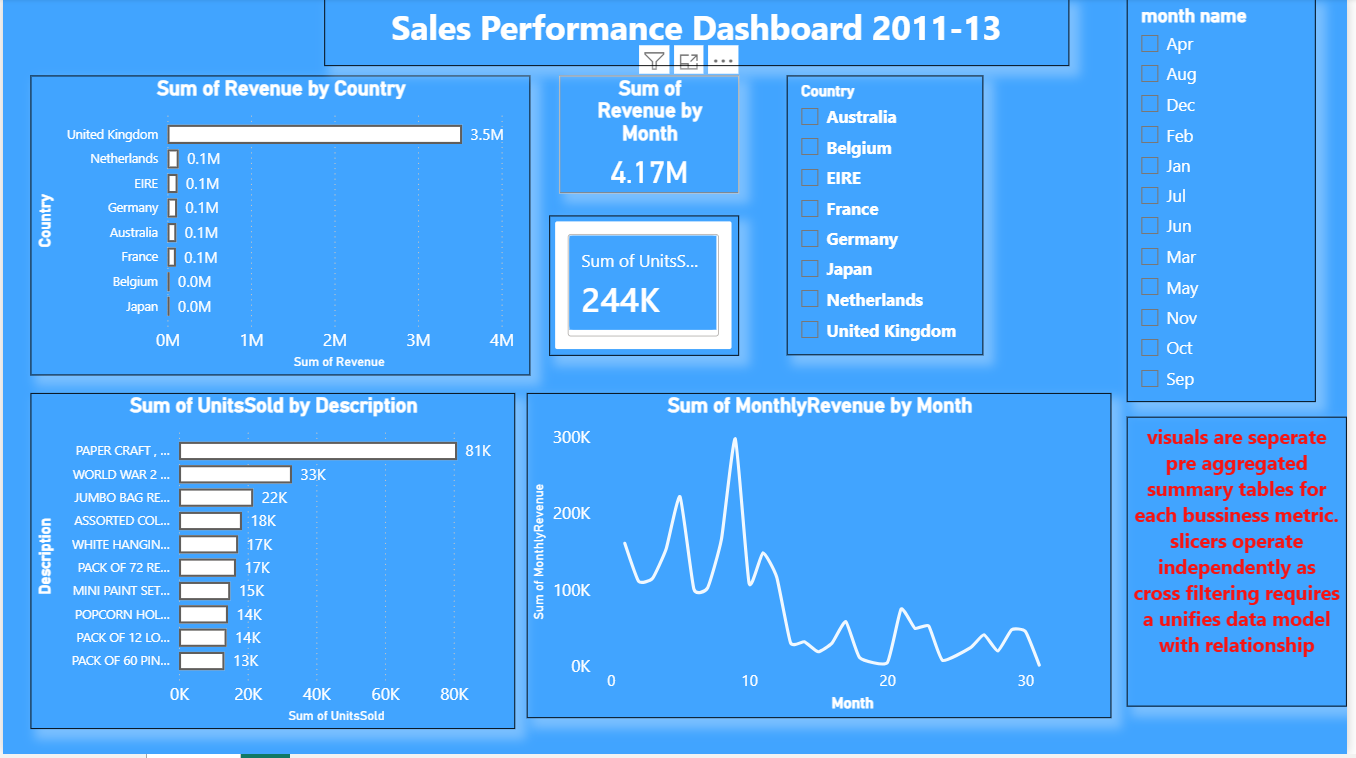

This screenshot's page, from the dashboard's own definition file:
{"tool":"powerbi","page":{"name":"Page 1","canvas":[1280,720],"ordinal":0},"visuals":[{"type":"clusteredBarChart","fields":{"Category":["3_country_revenue.Country"],"Y":["Sum(3_country_revenue.Revenue)"]},"box":[26.2,73.8,472.6,285.7],"z":0},{"type":"clusteredBarChart","fields":{"Y":["Sum(2_best_products.UnitsSold)"],"Category":["2_best_products.Description"]},"box":[26.2,376.2,461.9,320.2],"z":1000},{"type":"kpi","fields":{"Indicator":["Sum(3_country_revenue.Revenue)"],"TrendLine":["4_monthly_trends.Month"]},"box":[529.8,73.8,171.4,119],"z":2000},{"type":"lineChart","fields":{"Category":["4_monthly_trends.Month"],"Y":["Sum(4_monthly_trends.MonthlyRevenue)"]},"box":[498.8,376.2,557.1,309.5],"z":3000},{"type":"textbox","box":[306,0,709.4,64.5],"z":4000},{"type":"slicer","fields":{"Values":["3_country_revenue.Country"]},"box":[746.4,73.8,186.9,266.7],"z":5000},{"type":"cardVisual","fields":{"Data":["Sum(2_best_products.UnitsSold)"]},"box":[529.8,207.1,171.4,133.3],"z":6000},{"type":"slicer","fields":{"Values":["4_monthly_trends.month name"]},"box":[1070.2,0,179.8,384.5],"z":7000},{"type":"textbox","box":[1070.2,398.8,209.5,276.2],"z":8000}]}

Visuals, with their boxes in screenshot pixels (x1, y1, x2, y2), scaled from the page's 1280x720 canvas onto the 1356x758 screenshot:
clusteredBarChart - 3_country_revenue.Country x Sum(3_country_revenue.Revenue): x1=28 y1=78 x2=528 y2=378
clusteredBarChart - Sum(2_best_products.UnitsSold) x 2_best_products.Description: x1=28 y1=396 x2=517 y2=733
kpi - Sum(3_country_revenue.Revenue) x 4_monthly_trends.Month: x1=561 y1=78 x2=743 y2=203
lineChart - 4_monthly_trends.Month x Sum(4_monthly_trends.MonthlyRevenue): x1=528 y1=396 x2=1119 y2=722
textbox: x1=324 y1=0 x2=1076 y2=68
slicer - 3_country_revenue.Country: x1=791 y1=78 x2=989 y2=358
cardVisual - Sum(2_best_products.UnitsSold): x1=561 y1=218 x2=743 y2=358
slicer - 4_monthly_trends.month name: x1=1134 y1=0 x2=1324 y2=405
textbox: x1=1134 y1=420 x2=1355 y2=711
